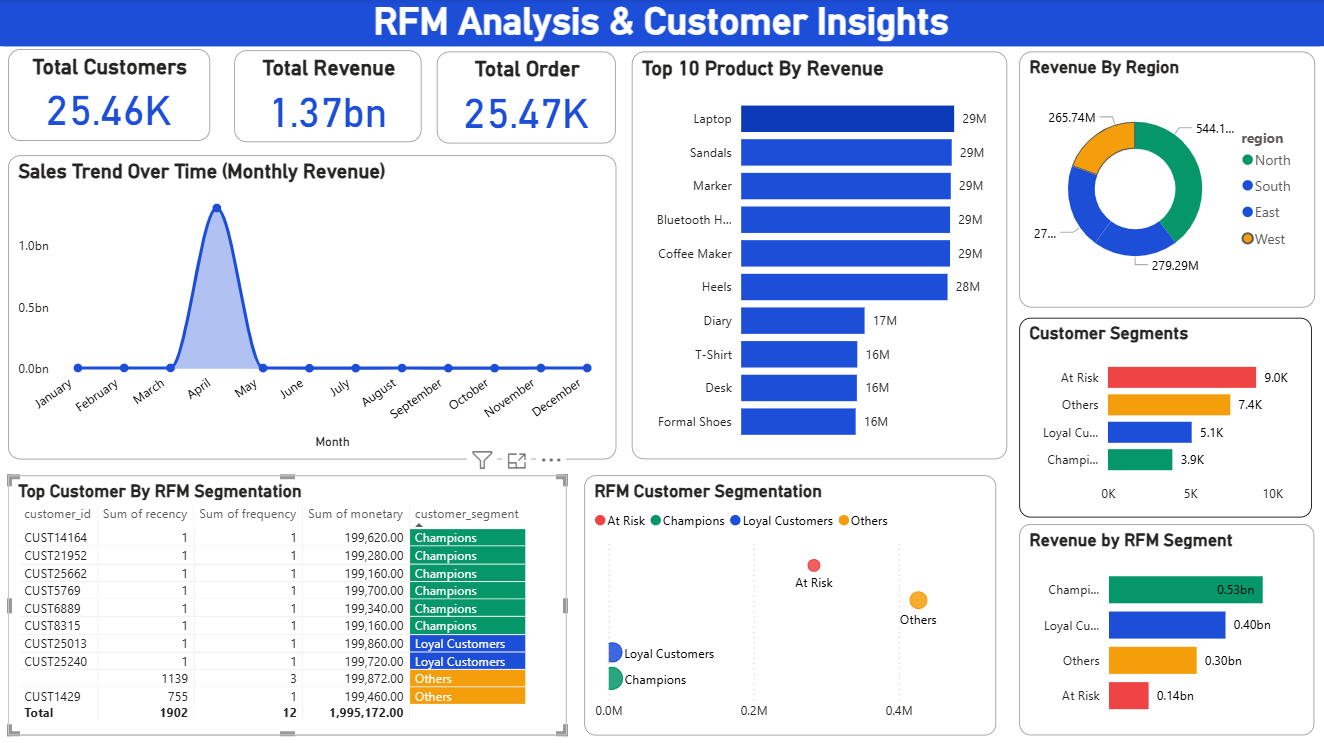

The page's visual inventory and layout, read from the dashboard file:
{"tool":"powerbi","page":{"name":"Page 1","canvas":[1280,720],"ordinal":0},"visuals":[{"type":"card","title":"Total Revenue","fields":{"Values":["Sum(public sales_data.revenue)"]},"box":[227.8,49.4,181.1,89.2],"z":0},{"type":"card","title":"Total Customers","fields":{"Values":["Count(public sales_data.customer_id)"]},"box":[9.6,48,194.9,89.2],"z":1000},{"type":"card","title":"Total Order","fields":{"Values":["CountNonNull(public sales_data.order_id)"]},"box":[424,50.8,172.9,89.2],"z":2000},{"type":"lineChart","title":"Sales Trend Over Time (Monthly Revenue)","fields":{"Category":["public sales_data.order_date.Variation.Date Hierarchy.Month"],"Y":["Sum(public sales_data.revenue)"]},"box":[9.6,150.9,587.3,293.7],"z":3000},{"type":"clusteredBarChart","title":"Top 10 Product By Revenue","fields":{"Category":["public sales_data.product_name"],"Y":["Sum(public sales_data.revenue)"]},"box":[612,50.8,362.3,393.8],"z":4000},{"type":"clusteredBarChart","title":"Customer Segments","fields":{"Category":["public rfm_analysis.customer_segment"],"Y":["CountNonNull(public rfm_analysis.customer_id)"]},"box":[985.7,307.6,282.3,193],"z":5000},{"type":"clusteredBarChart","title":"Revenue by RFM Segment","fields":{"Category":["public rfm_analysis.customer_segment"],"Y":["Sum(public rfm_analysis.monetary)"]},"box":[985.7,506.7,284.7,203.9],"z":6000},{"type":"donutChart","title":"Revenue By Region","fields":{"Category":["public sales_data.region"],"Y":["Sum(public sales_data.revenue)"]},"box":[985.3,50.8,285.4,247],"z":7000},{"type":"scatterChart","title":"RFM Customer Segmentation","fields":{"X":["Sum(public rfm_analysis.recency)"],"Y":["Sum(public rfm_analysis.frequency)"],"Size":["Sum(public rfm_analysis.monetary)"],"Series":["public rfm_analysis.customer_segment"]},"box":[565.4,459.7,397.9,251.1],"z":8000},{"type":"textbox","title":"RFM Analysis & Customer Insights","box":[0,0,1280.3,46.7],"z":9000},{"type":"tableEx","title":"Top Customer By RFM Segmentation","fields":{"Values":["public sales_data.customer_id","Sum(public rfm_analysis.recency)","Sum(public rfm_analysis.frequency)","Sum(public rfm_analysis.monetary)","public rfm_analysis.customer_segment"]},"box":[9.7,459.7,539.3,250.9],"z":10000}]}

Visuals, with their boxes in screenshot pixels (x1, y1, x2, y2), scaled from the page's 1280x720 canvas onto the 1324x743 screenshot:
"Total Revenue" card: 236/51/423/143
"Total Customers" card: 10/50/212/142
"Total Order" card: 439/52/617/144
"Sales Trend Over Time (Monthly Revenue)" lineChart: 10/156/617/459
"Top 10 Product By Revenue" clusteredBarChart: 633/52/1008/459
"Customer Segments" clusteredBarChart: 1020/317/1312/517
"Revenue by RFM Segment" clusteredBarChart: 1020/523/1314/733
"Revenue By Region" donutChart: 1019/52/1314/307
"RFM Customer Segmentation" scatterChart: 585/474/996/734
"RFM Analysis & Customer Insights" textbox: 0/0/1323/48
"Top Customer By RFM Segmentation" tableEx: 10/474/568/733
